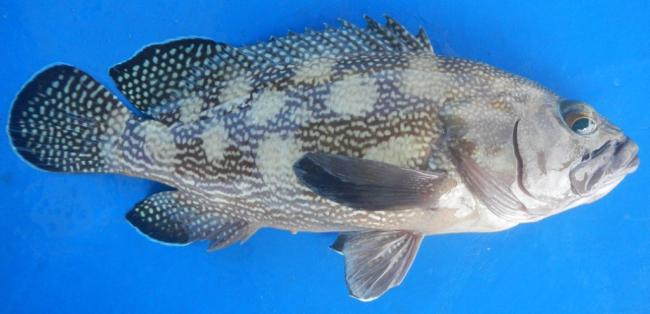fish: (5, 12, 641, 302)
